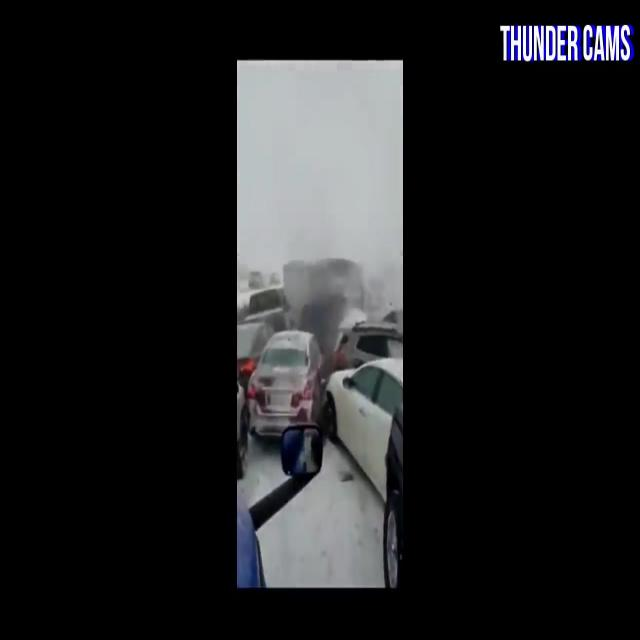accident: (274, 339, 368, 469)
